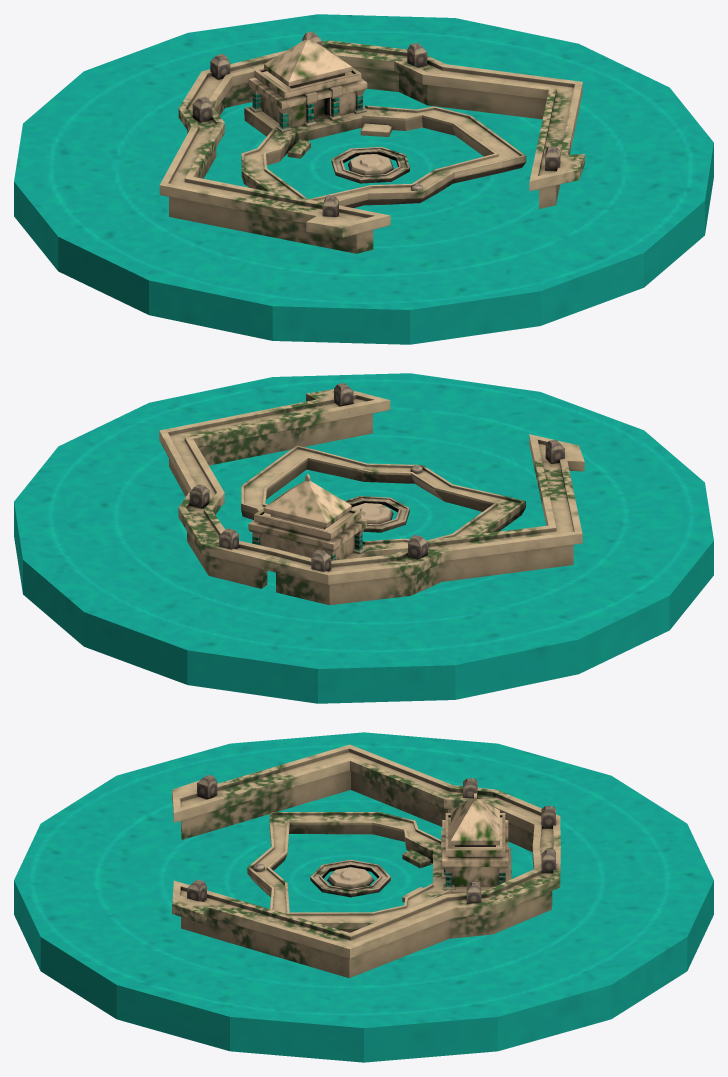
Rendered from Agua_Laguna.fbx.
3 renders of one model, top to bottom at view 1: azimuth 30°, elevation 25°; view 2: azimuth 150°, elevation 25°; view 3: azimuth 270°, elevation 25°, orthographic.
Parts seen in each view (by area): view 1: Circle.017; view 2: Circle.017; view 3: Circle.017.
Boxes of the visible parts, bbox=[...] form: Circle.017: bbox=[14, 14, 713, 344]; Circle.017: bbox=[14, 373, 713, 703]; Circle.017: bbox=[14, 732, 713, 1062].
Bounding box in the file's own units: 1.1 × 0.2104 × 1.1.
Materials: 1 (1 with a texture image).
